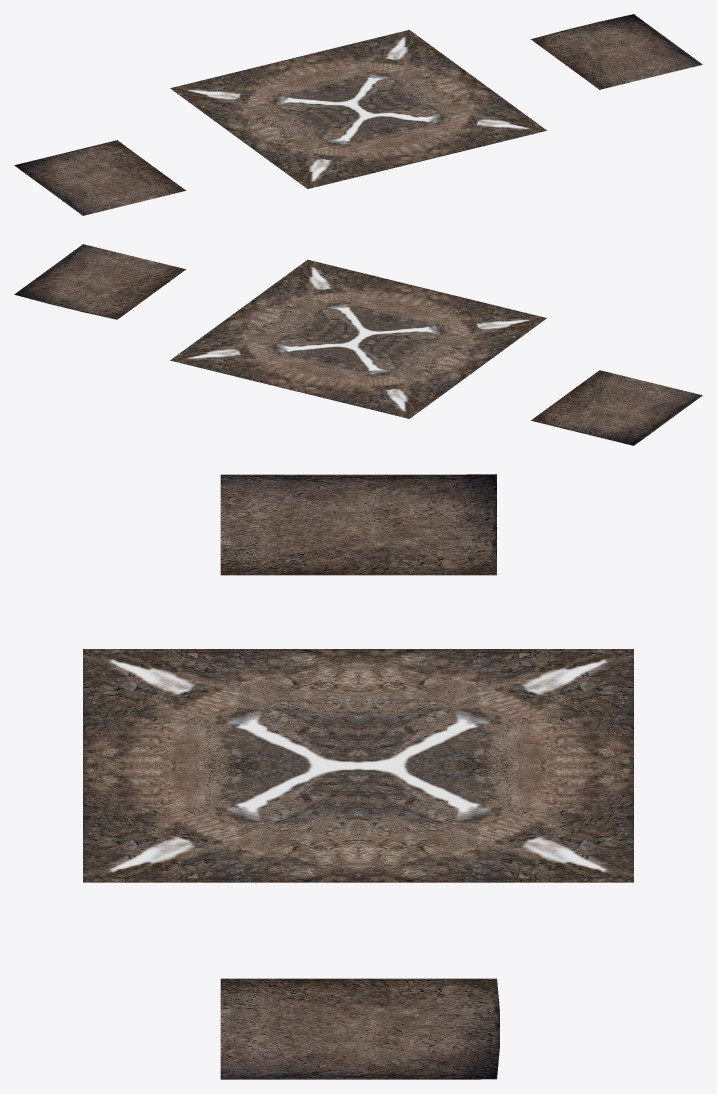
3 renders of one model, top to bottom at view 1: azimuth 30°, elevation 25°; view 2: azimuth 150°, elevation 25°; view 3: azimuth 270°, elevation 25°, orthographic. The views are drawn at different scales.
Visible parts, largest first — view 1: Plane04; view 2: Plane04; view 3: Plane04.
Boxes of the visible parts, <box> form: Plane04: <box>14,14,702,215</box>; Plane04: <box>14,244,702,445</box>; Plane04: <box>83,474,633,1079</box>.
Size of the model in its own units: 2341 by 28.94 by 901.
